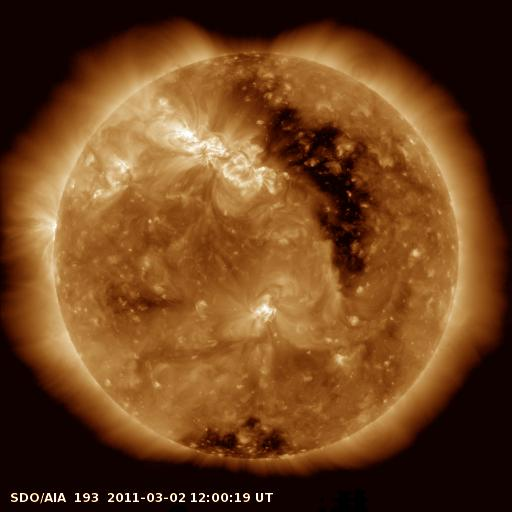coronal_hole: (219, 45, 375, 282), (184, 414, 296, 468)
